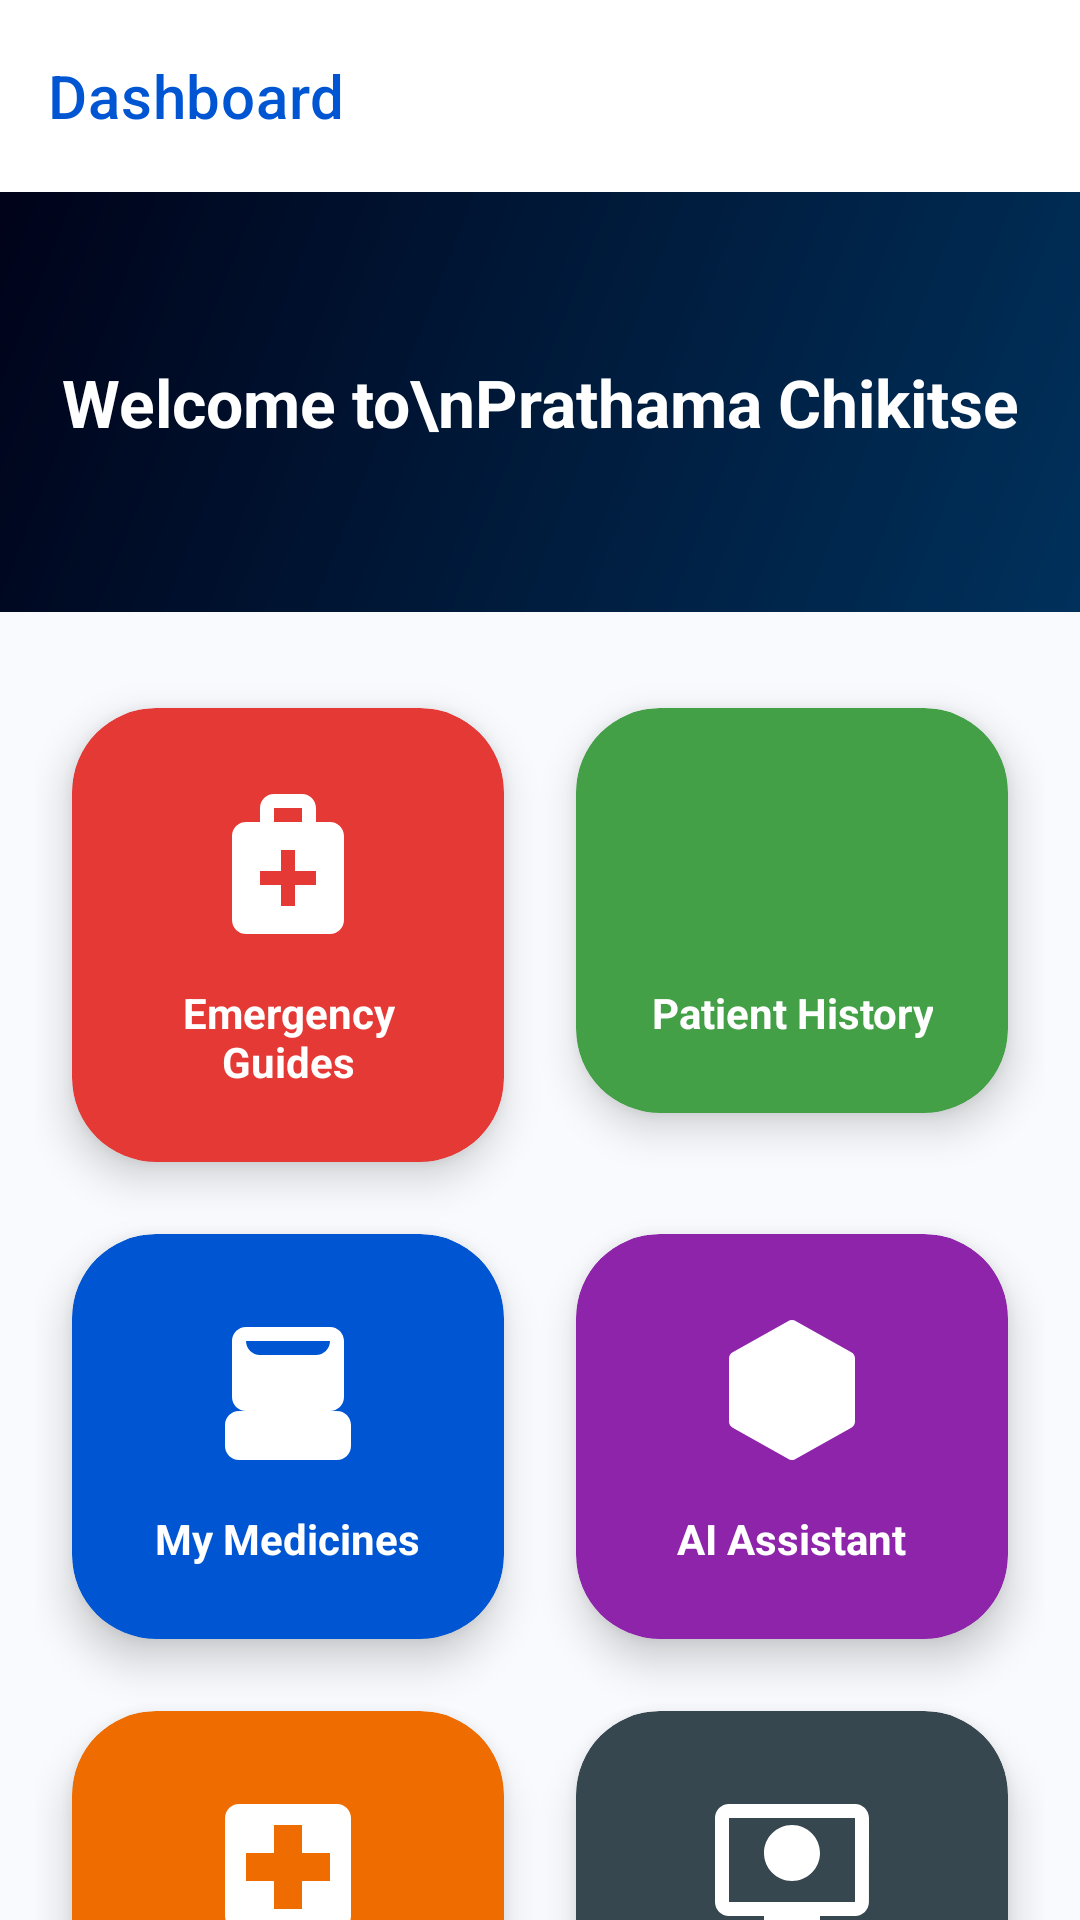

Where to tap for icons on this 1080 × 1920 app screen, as point (x, y):
first aid: point (288, 864)
